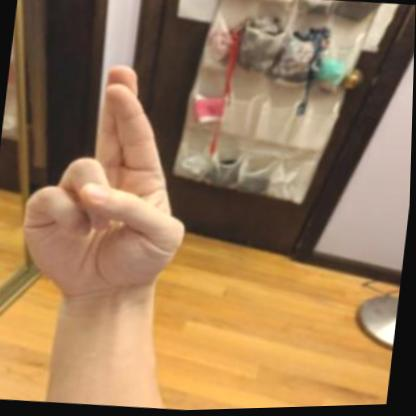R: (6, 48, 212, 314)
